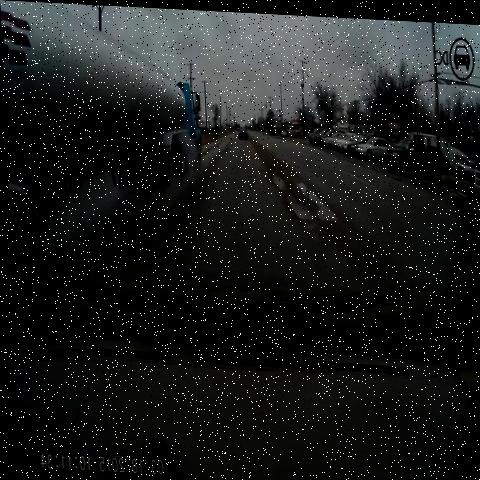pothole: (262, 168, 333, 233), (238, 149, 251, 160)
